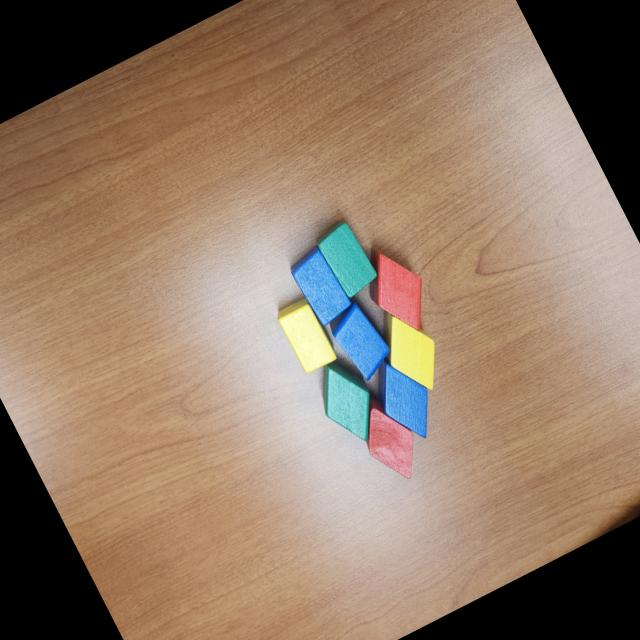blue: (362, 348, 448, 450), (320, 295, 400, 390), (285, 242, 356, 330)
green: (304, 352, 390, 452), (312, 215, 384, 304)
red: (350, 233, 444, 346), (346, 386, 431, 488)
yellow: (367, 295, 454, 401), (274, 296, 339, 376)
